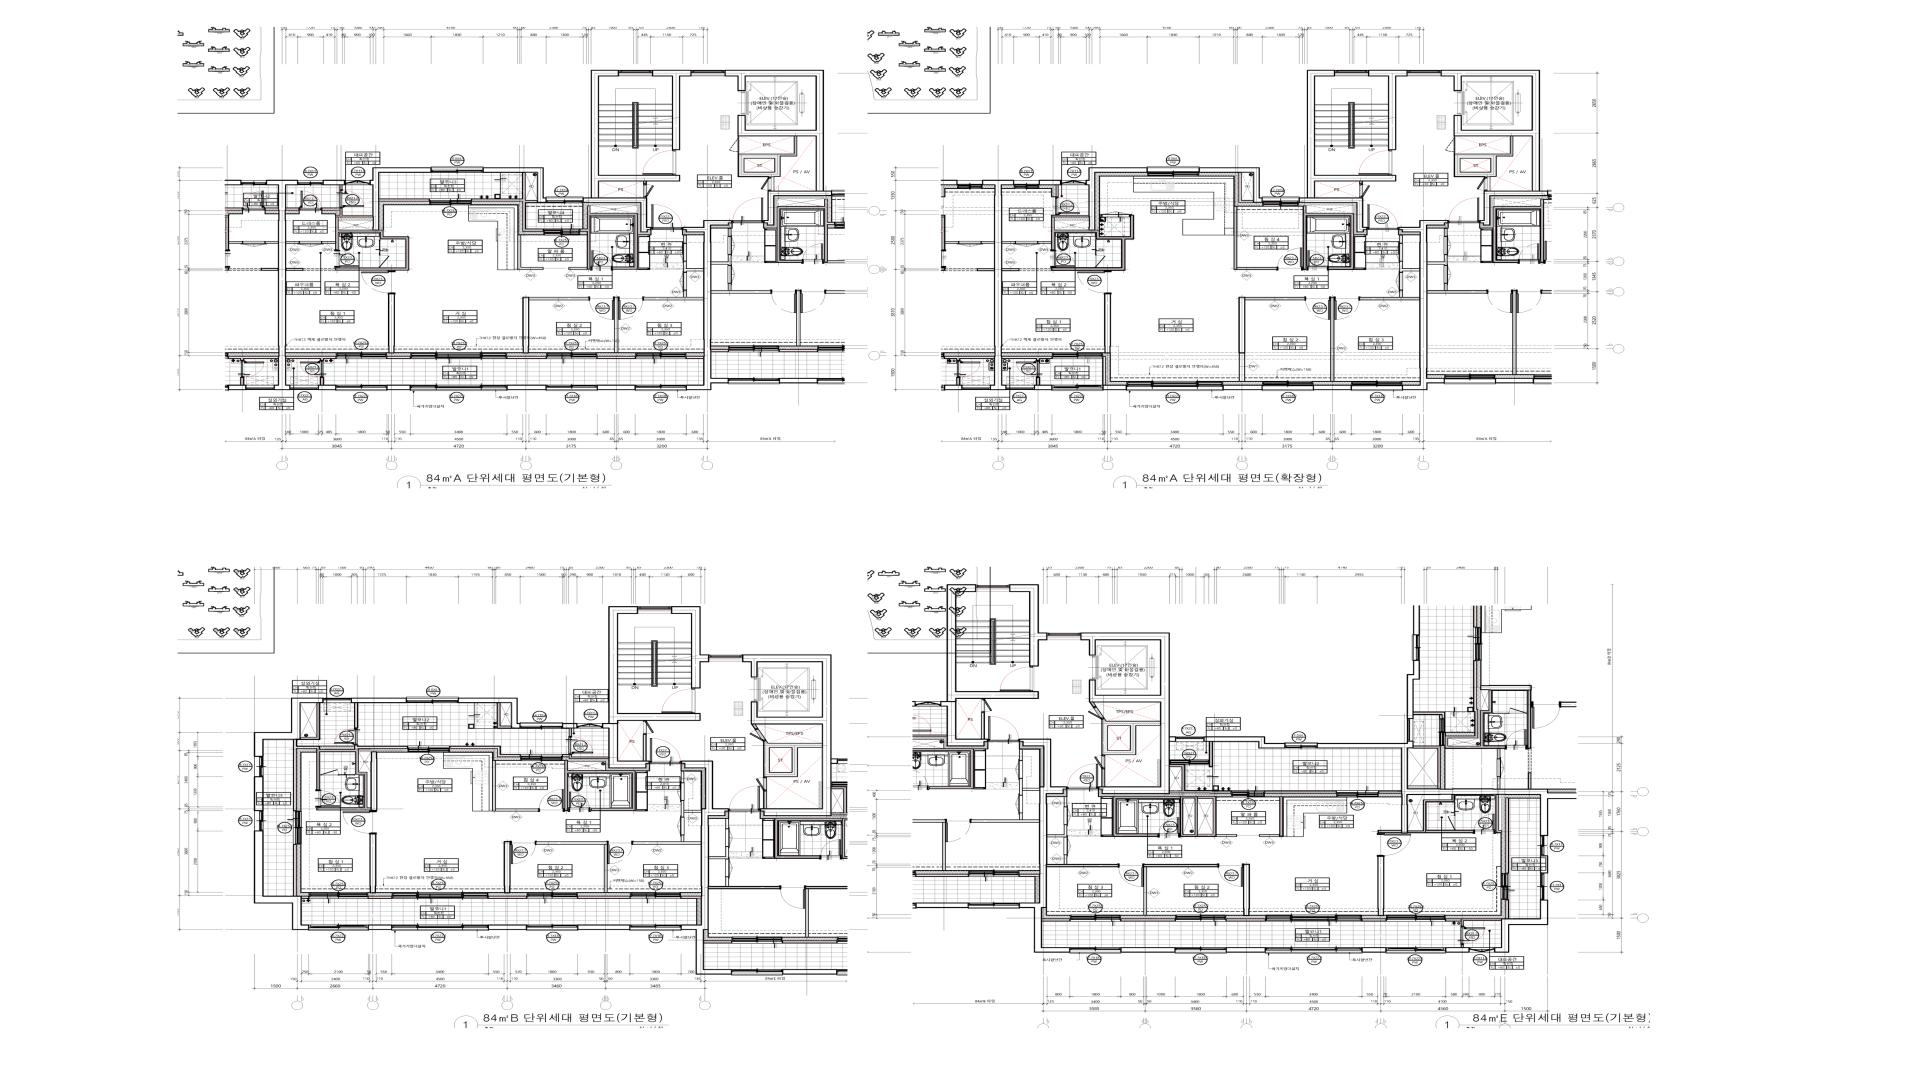door: (642, 150, 676, 175), (999, 667, 1034, 691), (661, 689, 696, 713), (1368, 202, 1398, 230), (1377, 833, 1411, 857), (343, 810, 377, 834), (729, 786, 760, 812), (649, 738, 680, 764), (651, 204, 682, 230), (1067, 764, 1098, 790), (1359, 151, 1392, 175), (361, 271, 395, 294), (1078, 271, 1112, 294), (1118, 863, 1144, 887), (608, 841, 633, 865), (1218, 864, 1244, 887), (618, 297, 644, 320), (589, 297, 615, 320), (1334, 297, 1360, 320), (539, 789, 565, 812), (510, 841, 536, 864), (1278, 248, 1303, 271), (1306, 297, 1330, 320), (315, 789, 341, 808), (1158, 817, 1181, 838), (1461, 926, 1486, 945), (339, 189, 364, 208), (591, 250, 613, 271), (568, 792, 591, 812), (334, 250, 359, 268), (1050, 250, 1076, 267), (300, 190, 321, 211), (1307, 250, 1328, 271), (1474, 814, 1496, 834), (569, 736, 593, 754), (1055, 198, 1080, 215), (300, 361, 324, 377), (1016, 361, 1040, 377), (334, 729, 357, 745), (749, 728, 767, 745), (1086, 707, 1105, 721), (1359, 181, 1371, 198), (1445, 136, 1456, 154), (643, 182, 655, 198), (729, 136, 739, 154), (755, 778, 767, 791), (981, 699, 992, 713), (1477, 177, 1488, 191), (1094, 755, 1105, 768), (643, 721, 654, 734), (1015, 241, 1038, 247), (299, 241, 322, 247), (1095, 255, 1106, 267), (1448, 814, 1456, 830), (379, 255, 389, 267), (320, 769, 339, 775)
wall: (1316, 741, 1549, 836), (1441, 70, 1549, 226), (725, 70, 832, 226), (1299, 70, 1397, 233), (603, 606, 701, 768), (583, 70, 680, 232), (1081, 632, 1176, 794), (947, 584, 1039, 747), (742, 654, 831, 816), (680, 761, 732, 975), (1019, 739, 1070, 953), (1398, 220, 1449, 390), (683, 220, 733, 390), (293, 740, 408, 811), (266, 180, 298, 390), (982, 180, 1014, 390), (1239, 297, 1306, 381), (254, 831, 309, 930), (1051, 215, 1134, 271), (471, 173, 544, 232), (1113, 796, 1217, 837), (253, 698, 323, 757), (335, 217, 409, 271), (369, 168, 432, 231), (1086, 168, 1148, 230), (1144, 864, 1218, 915), (580, 205, 638, 270), (522, 297, 589, 353), (565, 760, 635, 811), (536, 842, 607, 892), (1303, 206, 1354, 270), (1009, 584, 1048, 667), (652, 70, 692, 150), (1368, 70, 1408, 150), (671, 606, 709, 688), (444, 752, 493, 812), (1494, 900, 1548, 953), (1234, 207, 1278, 270), (1408, 795, 1474, 833), (483, 167, 547, 203), (493, 761, 538, 811), (763, 740, 822, 778), (1199, 168, 1263, 203), (1101, 719, 1160, 755), (458, 698, 521, 729), (1170, 765, 1232, 794), (1203, 736, 1286, 749), (517, 235, 543, 270), (1047, 855, 1118, 867), (449, 746, 521, 757), (301, 704, 320, 740), (633, 835, 701, 845), (1361, 291, 1420, 300), (644, 291, 703, 300), (770, 748, 792, 772), (1239, 173, 1253, 203), (1330, 297, 1335, 381), (1377, 857, 1384, 916), (369, 834, 376, 893), (1104, 294, 1111, 353), (388, 294, 395, 353), (370, 752, 377, 810), (497, 703, 511, 729), (503, 841, 510, 893), (681, 801, 701, 818), (1121, 947, 1176, 953), (336, 208, 372, 217), (1244, 864, 1250, 916), (254, 777, 263, 811), (1461, 919, 1501, 926), (351, 698, 407, 703), (577, 925, 631, 930), (1002, 356, 1053, 361), (286, 356, 336, 361), (1047, 825, 1067, 837), (1226, 947, 1266, 953), (1399, 261, 1419, 273), (683, 261, 703, 273), (562, 754, 608, 759), (1496, 795, 1502, 833), (1506, 798, 1509, 873), (614, 297, 618, 353), (1264, 790, 1337, 793), (293, 844, 297, 896), (1279, 797, 1284, 837), (1223, 385, 1263, 390), (506, 385, 546, 390), (488, 925, 527, 930), (597, 385, 636, 390), (1313, 385, 1352, 390), (1120, 919, 1176, 922), (577, 896, 631, 899), (379, 199, 430, 202), (1362, 947, 1387, 953), (1445, 947, 1470, 953), (1540, 856, 1548, 873), (1102, 385, 1127, 390), (386, 385, 411, 390), (1226, 919, 1267, 922), (506, 356, 547, 359), (368, 925, 392, 930), (488, 896, 527, 899), (597, 356, 636, 359), (1102, 356, 1106, 385), (1039, 180, 1062, 185), (1051, 215, 1088, 218), (323, 180, 345, 185), (981, 712, 985, 739), (643, 734, 647, 760), (1209, 742, 1213, 767), (354, 703, 358, 728), (1034, 385, 1053, 390), (317, 385, 336, 390), (562, 723, 577, 729), (1042, 919, 1070, 922), (1361, 919, 1387, 922), (1506, 900, 1510, 919), (367, 896, 392, 899), (386, 356, 411, 359), (1101, 768, 1105, 786), (1378, 830, 1401, 833), (1378, 791, 1401, 794), (763, 791, 767, 808), (1259, 834, 1280, 837), (1217, 834, 1237, 837), (681, 896, 701, 899), (568, 267, 587, 270), (321, 208, 340, 211), (1002, 268, 1020, 271), (685, 356, 703, 359), (286, 268, 303, 271), (1090, 702, 1097, 709), (1445, 919, 1461, 922), (1038, 241, 1051, 244), (1002, 241, 1015, 244), (1056, 185, 1059, 198), (322, 241, 335, 244), (286, 241, 299, 244), (681, 771, 684, 783), (1399, 235, 1403, 244), (751, 725, 758, 730), (1036, 377, 1040, 385), (683, 235, 687, 243), (320, 377, 324, 385), (1064, 797, 1067, 807), (1101, 797, 1114, 799), (286, 208, 299, 210), (1101, 835, 1113, 837), (302, 896, 309, 899), (569, 729, 572, 736), (339, 185, 342, 189), (1461, 945, 1464, 947)
window: (1127, 381, 1223, 391), (393, 892, 487, 899), (392, 925, 488, 931), (1266, 948, 1362, 954), (411, 385, 506, 391), (411, 353, 506, 359), (1266, 915, 1361, 921), (1148, 167, 1199, 177), (1352, 381, 1402, 391), (1263, 382, 1313, 391), (309, 892, 367, 899), (1263, 197, 1299, 207), (1070, 947, 1121, 954), (309, 925, 368, 931), (407, 697, 457, 704), (1176, 915, 1226, 922), (1387, 915, 1445, 921), (1387, 947, 1445, 953), (337, 352, 386, 359), (547, 352, 596, 359), (636, 352, 685, 359), (1053, 352, 1102, 359), (631, 892, 680, 899), (1337, 790, 1378, 798), (546, 385, 597, 391), (432, 167, 483, 173), (336, 385, 386, 391), (636, 385, 686, 391), (631, 925, 681, 931), (527, 925, 577, 931), (527, 893, 577, 899), (1176, 947, 1226, 953), (1070, 915, 1120, 921), (293, 811, 302, 844), (1053, 385, 1102, 391), (521, 722, 562, 729), (521, 754, 562, 761), (638, 606, 671, 614), (430, 199, 471, 205), (408, 746, 449, 752), (709, 655, 742, 662), (1232, 790, 1265, 797), (976, 585, 1009, 592), (1014, 180, 1039, 189), (1048, 633, 1080, 640), (544, 229, 579, 235), (547, 197, 582, 203), (1540, 874, 1548, 900), (1501, 874, 1509, 900), (1170, 760, 1209, 765), (1286, 742, 1317, 748), (254, 811, 263, 831), (254, 757, 263, 776), (578, 723, 602, 729), (1007, 385, 1034, 390), (324, 698, 351, 703), (1176, 737, 1203, 742), (1541, 837, 1548, 856), (291, 385, 317, 390), (298, 180, 323, 185), (1470, 948, 1494, 953), (1062, 180, 1085, 185), (346, 180, 369, 185)
